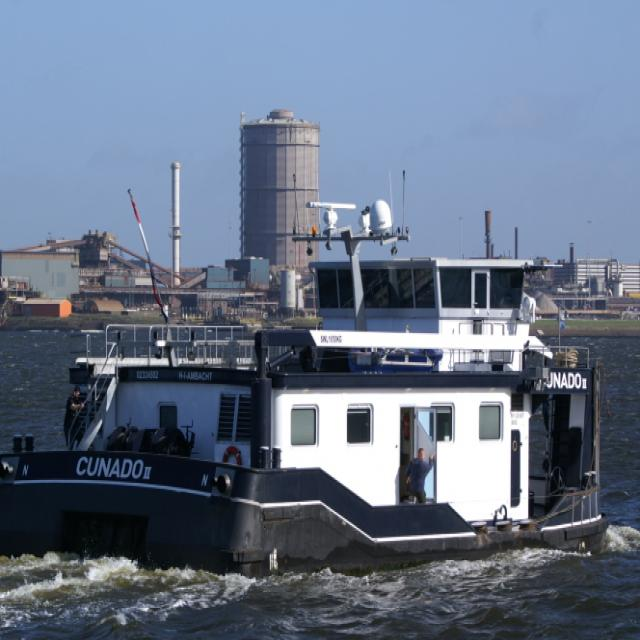tugboat: (1, 196, 616, 590)
